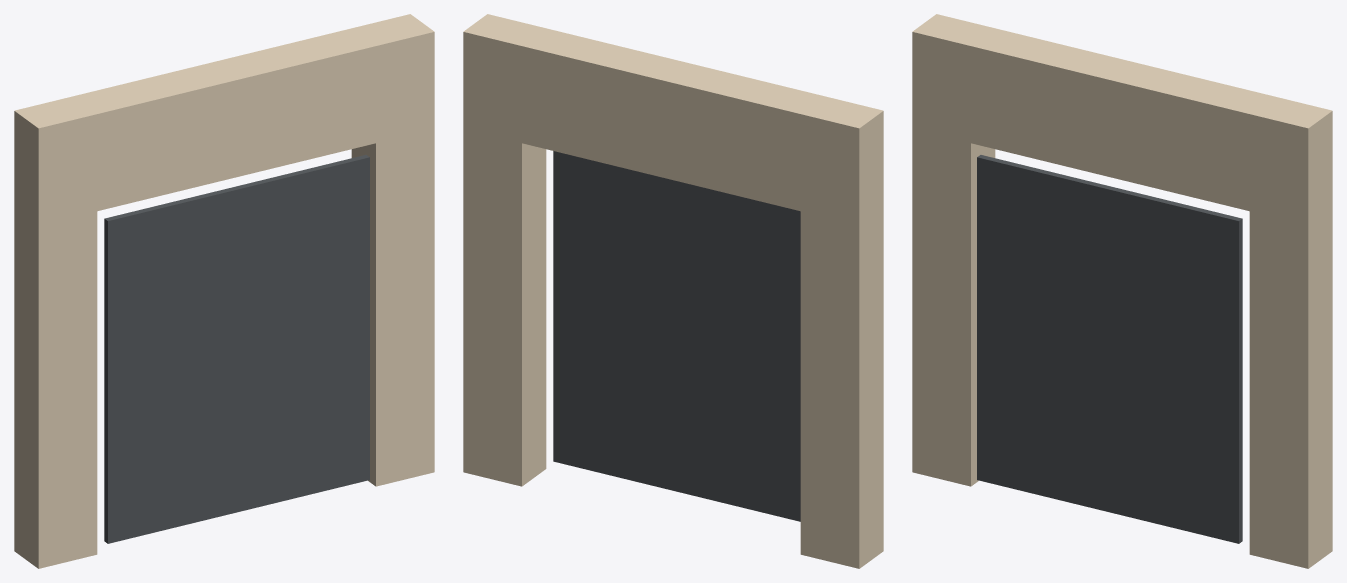
Rendered from bh_souq_shutter_01_lod0.glb.
The picture shows the model from 3 angles, left to right: view 1: azimuth 30°, elevation 25°; view 2: azimuth 150°, elevation 25°; view 3: azimuth 330°, elevation 25°; orthographic projection.
Parts seen in each view (by area): view 1: bh_souq_shutter_01_infill, bh_souq_shutter_01_left, bh_souq_shutter_01_top, bh_souq_shutter_01_right; view 2: bh_souq_shutter_01_infill, bh_souq_shutter_01_left, bh_souq_shutter_01_right, bh_souq_shutter_01_top; view 3: bh_souq_shutter_01_infill, bh_souq_shutter_01_right, bh_souq_shutter_01_top, bh_souq_shutter_01_left.
Boxes of the visible parts, x1=… form: bh_souq_shutter_01_infill: x1=104, y1=155, x2=369, y2=543; bh_souq_shutter_01_left: x1=14, y1=96, x2=97, y2=568; bh_souq_shutter_01_top: x1=73, y1=28, x2=375, y2=211; bh_souq_shutter_01_right: x1=351, y1=14, x2=434, y2=486; bh_souq_shutter_01_infill: x1=553, y1=151, x2=800, y2=521; bh_souq_shutter_01_left: x1=800, y1=96, x2=883, y2=568; bh_souq_shutter_01_right: x1=463, y1=14, x2=546, y2=486; bh_souq_shutter_01_top: x1=522, y1=28, x2=824, y2=211; bh_souq_shutter_01_infill: x1=977, y1=155, x2=1242, y2=543; bh_souq_shutter_01_right: x1=1249, y1=96, x2=1332, y2=568; bh_souq_shutter_01_top: x1=971, y1=28, x2=1273, y2=211; bh_souq_shutter_01_left: x1=912, y1=14, x2=995, y2=486.
Bounding box in the file's own units: 3.2 × 3.4 × 0.3718.
